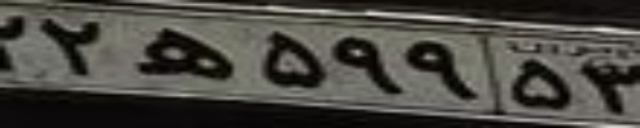2: (37, 16, 102, 76), (0, 15, 31, 73)
3: (578, 60, 637, 116)
5: (259, 31, 325, 88), (500, 58, 571, 110)
9: (404, 37, 478, 101), (330, 34, 401, 95)
he: (134, 28, 234, 81)
